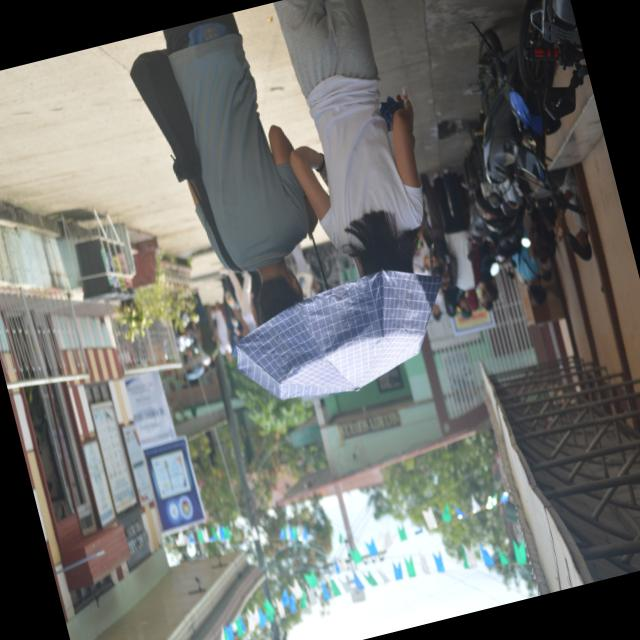person: (163, 13, 316, 319), (274, 0, 422, 274), (433, 168, 480, 309), (220, 268, 257, 334), (511, 243, 545, 303), (192, 290, 217, 369), (554, 208, 591, 260), (210, 303, 231, 363)
